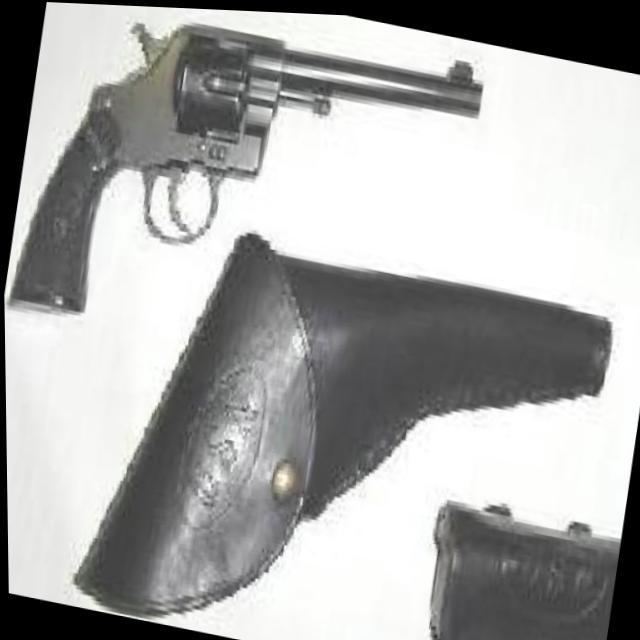weapon: (61, 200, 622, 640), (1, 0, 489, 390), (411, 482, 624, 640)
